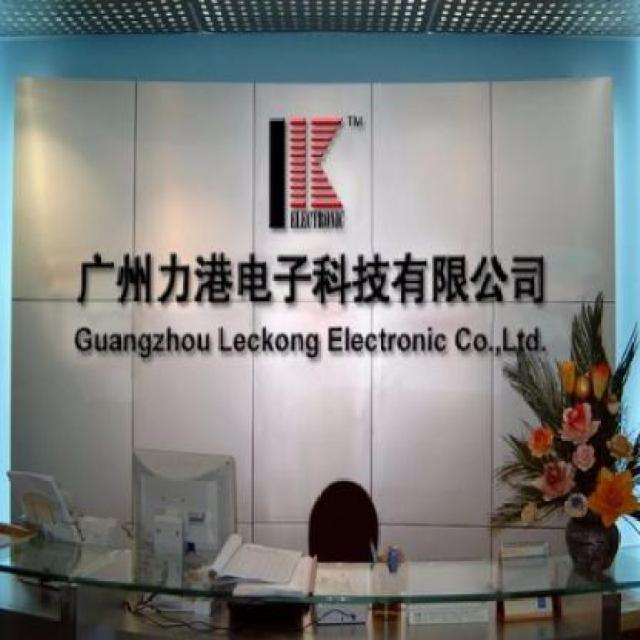frontdesk: (0, 460, 640, 640)
